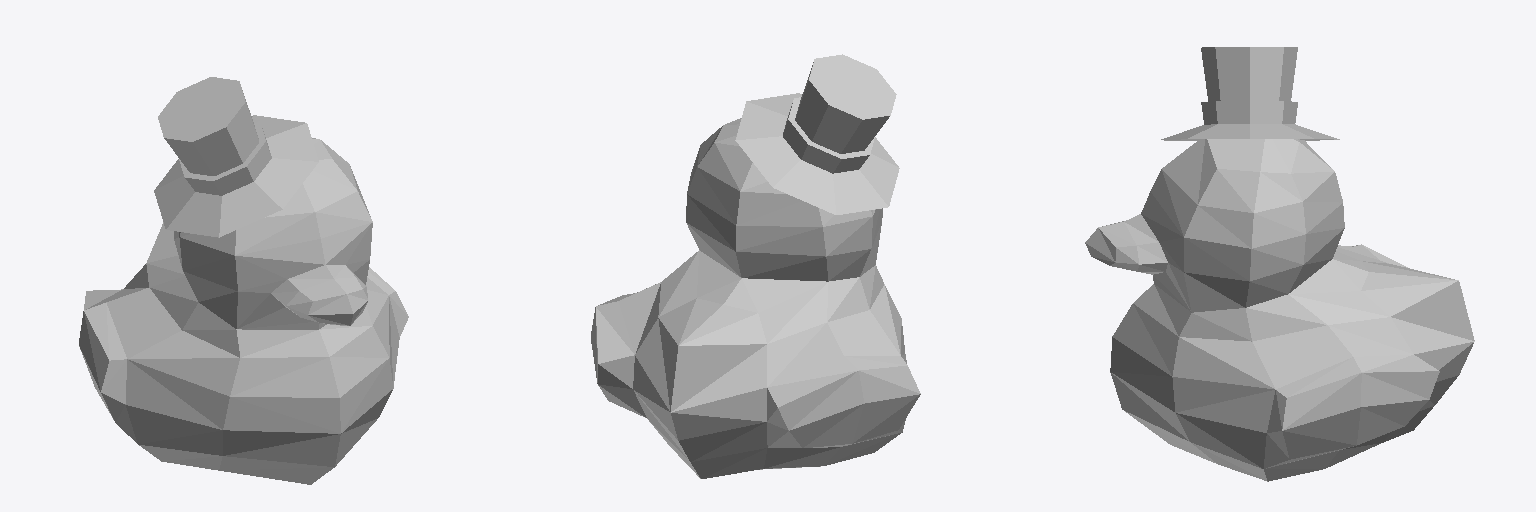
Rendered from Rubber Ducky.obj.
3 renders of one model, left to right at view 1: azimuth 30°, elevation 25°; view 2: azimuth 150°, elevation 25°; view 3: azimuth 270°, elevation 25°, orthographic.
Visible parts, largest first — view 1: Cube, Cylinder; view 2: Cube, Cylinder; view 3: Cube, Cylinder.
Boxes of the visible parts, x1,y1,x2,y2 form: Cube: [79, 138, 408, 484]; Cylinder: [154, 77, 318, 237]; Cube: [591, 118, 920, 478]; Cylinder: [735, 54, 899, 214]; Cube: [1085, 139, 1474, 481]; Cylinder: [1161, 47, 1339, 140].
Size of the model in its own units: 1.3 by 1.56 by 1.42.